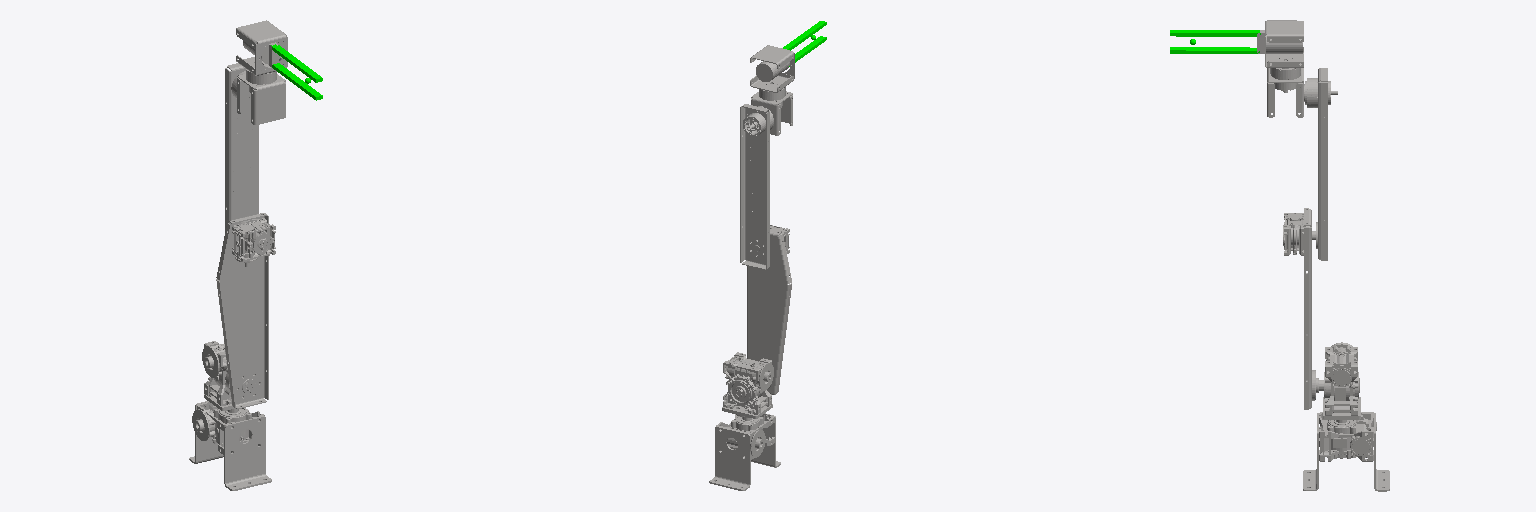
URDF robot description (leaf_robot_description):
<?xml version="1.0" encoding="utf-8"?>
<!-- Fixed URDF with proper base link and cleaner hierarchy -->

<robot name="leaf_robot_description">

<material name="gray">
  <color rgba="0.7451 0.73725 0.72941 1"/>
</material>

<material name="green">
  <color rgba="0 1 0 1"/>
</material>

  <!-- ================= BASE FOOTPRINT ================= -->
  <link name="base_footprint"/>

  <!-- ================= BASE LINK ================= -->
  <link name="base_link">
    <inertial>
      <origin xyz="-0.064016 -0.080031 0.11562" rpy="0 0 0"/>
      <mass value="1.1031"/>
      <inertia
        ixx="0.0023261"
        ixy="0.0001122"
        ixz="-1.4598E-06"
        iyy="0.0023583"
        iyz="5.3023E-06"
        izz="0.0024963"/>
    </inertial>

    <visual>
      <origin xyz="0 0 0" rpy="0 0 0"/>
      <geometry>
        <mesh filename="package://leaf_robot_description/meshes/BASE.STL"/>
      </geometry>
      <material name="gray">
        <color rgba="0.7451 0.73725 0.72941 1"/>
      </material>
    </visual>

    <collision>
      <origin xyz="0 0 0" rpy="0 0 0"/>
      <geometry>
        <mesh filename="package://leaf_robot_description/meshes/BASE.STL"/>
      </geometry>
    </collision>
  </link>

  <!-- FIXED ROOT JOINT -->
  <joint name="base_fixed_joint" type="fixed">
    <parent link="base_footprint"/>
    <child link="base_link"/>
    <origin xyz="0 0 0.6" rpy="0 0 3.14"/>
  </joint>

  <!-- ================= LINK J1 ================= -->
  <link name="J_1">
    <inertial>
      <origin xyz="0.0030632 -0.00037054 0.19009" rpy="0 0 0"/>
      <mass value="1.089"/>
      <inertia
        ixx="0.0018485"
        ixy="-1.4598E-06"
        ixz="-0.00011196"
        iyy="0.0024341"
        iyz="-5.3023E-06"
        izz="0.001692"/>
    </inertial>

    <visual>
      <origin xyz="0 0 0" rpy="0 0 0"/>
      <geometry>
        <mesh filename="package://leaf_robot_description/meshes/J_1.STL"/>
      </geometry>
      <material name="gray"/>
    </visual>

    <collision>
      <origin xyz="0 0 0" rpy="0 0 0"/>
      <geometry>
        <mesh filename="package://leaf_robot_description/meshes/J_1.STL"/>
      </geometry>
    </collision>
  </link>

  <joint name="ROT_1" type="revolute">
    <origin xyz="-0.067 -0.065 0.082" rpy="0 0 0"/>
    <parent link="base_link"/>
    <child link="J_1"/>
    <axis xyz="0 0 1"/>
    <limit lower="-3.14" upper="3.14" effort="10" velocity="1.0"/>
  </joint>

  <!-- ================= LINK J2 ================= -->
  <link name="J_2">
    <inertial>
      <origin xyz="-0.25856 0.13854 0.13905" rpy="0 0 0"/>
      <mass value="0.721"/>
      <inertia
        ixx="0.0019755"
        ixy="0.0020808"
        ixz="-3.9585E-06"
        iyy="0.004707"
        iyz="1.0786E-06"
        izz="0.00632"/>
    </inertial>

    <visual>
      <origin xyz="0 0 0" rpy="0 0 0"/>
      <geometry>
        <mesh filename="package://leaf_robot_description/meshes/J_2.STL"/>
      </geometry>
      <material name="gray"/>
    </visual>

    <collision>
      <origin xyz="0 0 0" rpy="0 0 0"/>
      <geometry>
        <mesh filename="package://leaf_robot_description/meshes/J_2.STL"/>
      </geometry>
    </collision>
  </link>

  <joint name="PITCH_1" type="revolute">
    <origin xyz="0 -0.046 0.194" rpy="1.5708 1.0472 -3.1416"/>
    <parent link="J_1"/>
    <child link="J_2"/>
    <axis xyz="0 0 1"/>
    <limit lower="-1.57" upper="1.57" effort="10" velocity="1.0"/>
  </joint>

  <!-- ================= LINK J3 ================= -->
  <link name="J_3">
    <inertial>
      <origin xyz="0.15412 -0.0055136 0.088982" rpy="0 0 0"/>
      <mass value="0.21768"/>
      <inertia
        ixx="0.0012955"
        ixy="7.1563E-06"
        ixz="-0.0018514"
        iyy="0.0047078"
        iyz="4.1274E-06"
        izz="0.0034333"/>
    </inertial>

    <visual>
      <origin xyz="0 0 0" rpy="0 0 0"/>
      <geometry>
        <mesh filename="package://leaf_robot_description/meshes/J_3.STL"/>
      </geometry>
      <material name="gray"/>
    </visual>

    <collision>
      <origin xyz="0 0 0" rpy="0 0 0"/>
      <geometry>
        <mesh filename="package://leaf_robot_description/meshes/J_3.STL"/>
      </geometry>
    </collision>
  </link>

  <joint name="PITCH_2" type="revolute">
    <origin xyz="-0.37152 0.2145 0.107" rpy="1.5708 0 -3.1416"/>
    <parent link="J_2"/>
    <child link="J_3"/>
    <axis xyz="0 1 0"/>
    <limit lower="-3.14" upper="3.14" effort="10" velocity="1.0"/>
  </joint>

  <!-- ================= LINK J4 ================= -->
  <link name="J_4">
    <inertial>
      <origin xyz="0.0015946 0.0041989 -0.028525" rpy="0 0 0"/>
      <mass value="0.2071"/>
      <inertia
        ixx="0.00034764"
        ixy="1.6788E-07"
        ixz="-4.447E-08"
        iyy="0.00034785"
        iyz="-2.7415E-07"
        izz="0.00030028"/>
    </inertial>

    <visual>
      <origin xyz="0 0 0" rpy="0 0 0"/>
      <geometry>
        <mesh filename="package://leaf_robot_description/meshes/J_4.STL"/>
      </geometry>
      <material name="gray"/>
    </visual>

    <collision>
      <origin xyz="0 0 0" rpy="0 0 0"/>
      <geometry>
        <mesh filename="package://leaf_robot_description/meshes/J_4.STL"/>
      </geometry>
    </collision>
  </link>

  <joint name="PITCH_3" type="revolute">
    <origin xyz="0.3542 0.012 0.2045" rpy="1.5708 0.68579 0"/>
    <parent link="J_3"/>
    <child link="J_4"/>
    <axis xyz="0 0 1"/>
    <limit lower="-3.14" upper="3.14" effort="10" velocity="1.0"/>
  </joint>

  <!-- ================= LINK J5 ================= -->
  <link name="J_5">
    <inertial>
      <origin xyz="-0.0015905 -0.0042271 -0.028525" rpy="0 0 0"/>
      <mass value="0.2071"/>
      <inertia
        ixx="0.00034764"
        ixy="1.6788E-07"
        ixz="1.2854E-07"
        iyy="0.00034785"
        iyz="1.8355E-07"
        izz="0.00030028"/>
    </inertial>

    <visual>
      <origin xyz="0 0 0" rpy="0 0 0"/>
      <geometry>
        <mesh filename="package://leaf_robot_description/meshes/J_5.STL"/>
      </geometry>
      <material name="gray"/>
    </visual>

    <collision>
      <origin xyz="0 0 0" rpy="0 0 0"/>
      <geometry>
        <mesh filename="package://leaf_robot_description/meshes/J_5.STL"/>
      </geometry>
    </collision>
  </link>

  <joint name="ROT_2" type="revolute">
    <origin xyz="0.023514 0.062204 -0.0725" rpy="-1.5708 -2.7802 2.7802"/>
    <parent link="J_4"/>
    <child link="J_5"/>
    <axis xyz="0 0 1"/>
    <limit lower="-3.14" upper="3.14" effort="10" velocity="1.0"/>
  </joint>

  <!-- ================= LINK J6 ================= -->
  <joint name="ROT_3" type="revolute">
    <parent link="J_5"/>
    <child link="J_6"/>
    <origin xyz="-0.0015905 -0.0042271 -0.078525" rpy="0 0 -0.353599"/>
    <axis xyz="0 1 0"/>
    <limit effort="50" velocity="1.0" lower="-6.28" upper="6.28"/>
  </joint>

  <link name="J_6">
    <visual>
      <geometry><cylinder length="0.1" radius="0.03"/></geometry>
      <origin xyz="0 0 0" rpy="-1.5708 0 0"/>
      <material name="gray"/>
    </visual>
    <collision>
      <geometry><box size="0.04 0.02 0.02"/></geometry>
      <origin xyz="0 0 0" rpy="-1.5708 0 0"/>
    </collision>
  </link>

  <!-- ========================= -->
  <!-- GRIPPER BASE -->
  <!-- ========================= -->

  <joint name="Gripper" type="fixed">
    <parent link="J_6"/>
    <child link="gripper_base_link"/>
    <origin xyz="0 -0.06 0" rpy="1.5708 0 0"/>
  </joint>

  <link name="gripper_base_link">
    <visual>
      <geometry>
        <box size="0.02 0.06 0.02"/>
      </geometry>
      <material name="gray"/>
    </visual>
  </link>

  <!-- LEFT FINGER -->

  <joint name="left_finger_joint" type="prismatic">
    <parent link="gripper_base_link"/>
    <child link="left_finger"/>
    <origin xyz="0 0.025 0"/>
    <axis xyz="0 -1 0"/>
    <limit lower="0.0" upper="0.02"
           effort="10" velocity="0.1"/>
  </joint>

  <link name="left_finger">
    <visual>
      <geometry>
        <box size="0.02 0.01 0.235"/>
      </geometry>
      <origin xyz="0 0 0.1175"/>
      <material name="green"/>
    </visual>
  </link>

    <!-- RIGHT FINGER -->

  <joint name="right_finger_joint" type="prismatic">
    <parent link="gripper_base_link"/>
    <child link="right_finger"/>
    <origin xyz="0 -0.025 0"/>
    <axis xyz="0 -1 0"/>
    <mimic joint="left_finger_joint" multiplier="-1.0"/>
    <limit lower="0.0" upper="0.02"
          effort="10" velocity="0.1"/>
  </joint>

  <link name="right_finger">
    <visual>
      <geometry>
        <box size="0.02 0.01 0.235"/>
      </geometry>
      <origin xyz="0 0 0.1175"/>
      <material name="green"/>
    </visual>

    <collision>
      <geometry>
        <box size="0.02 0.01 0.235"/>
      </geometry>
      <origin xyz="0 0 0.1175"/>
    </collision>
  </link>

  <!-- TCP -->

  <link name="link_tcp">
    <visual>
      <geometry>
        <sphere radius="0.008"/>
      </geometry>
      <material name="green"/>
    </visual>

    <collision>
      <geometry>
        <sphere radius="0.005"/>
      </geometry>
    </collision>
  </link>

  <joint name="tcp_joint" type="fixed">
    <parent link="gripper_base_link"/>
    <child link="link_tcp"/>
    <origin xyz="0 0 0.17625" rpy="0 0 0"/>
  </joint>
</robot>  

--- Facts derived from the render (not from the file) ---
The picture shows the robot from 3 angles, left to right: view 1: azimuth 30°, elevation 25°; view 2: azimuth 150°, elevation 25°; view 3: azimuth 270°, elevation 25°; orthographic projection.
Robot: leaf_robot_description — 12 links, 11 joints (6 revolute, 2 prismatic, 3 fixed); root link base_footprint; default pose: all joints at 0.
Links seen in each view (by area): view 1: J_2, base_link, J_3, J_4, J_5, J_1; view 2: J_2, J_3, base_link, J_1, J_5, J_4; view 3: base_link, J_2, J_1, J_3, J_5, J_4, right_finger, left_finger.
Boxes of the visible links, x1,y1,x2,y2 form: J_2: (216, 213, 275, 409); base_link: (189, 401, 271, 490); J_3: (225, 63, 258, 230); J_4: (231, 71, 285, 124); J_5: (236, 20, 287, 92); J_1: (202, 341, 238, 412); J_2: (736, 225, 791, 396); J_3: (740, 104, 769, 269); base_link: (709, 413, 780, 490); J_1: (722, 352, 773, 420); J_5: (750, 45, 794, 107); J_4: (743, 91, 792, 136); base_link: (1303, 412, 1389, 491); J_2: (1283, 208, 1323, 409); J_1: (1323, 342, 1360, 422); J_3: (1316, 68, 1327, 260); J_5: (1265, 20, 1303, 92); J_4: (1267, 68, 1337, 117); right_finger: (1170, 30, 1260, 36); left_finger: (1170, 47, 1259, 53).
Size in the robot's own frame: 0.1571 by 0.5692 by 1.3 metres.
6 mesh visuals loaded from 6 distinct referenced files (6 binary STL).
